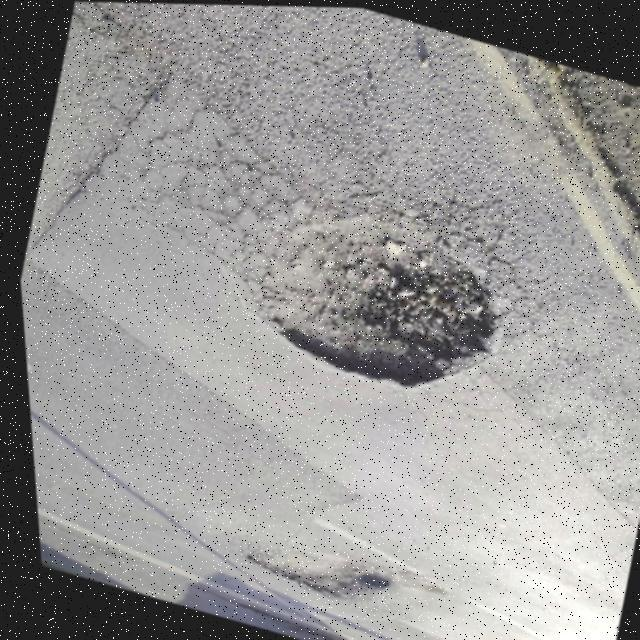pothole: (218, 178, 520, 416)
